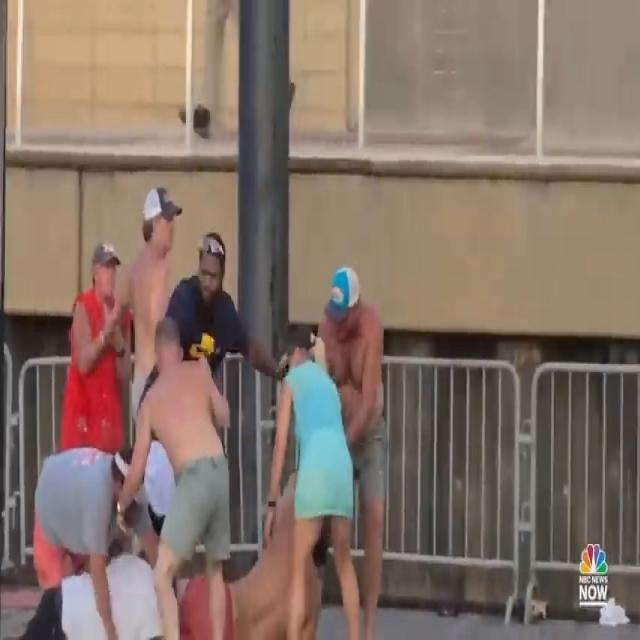fight: (32, 169, 396, 640)
